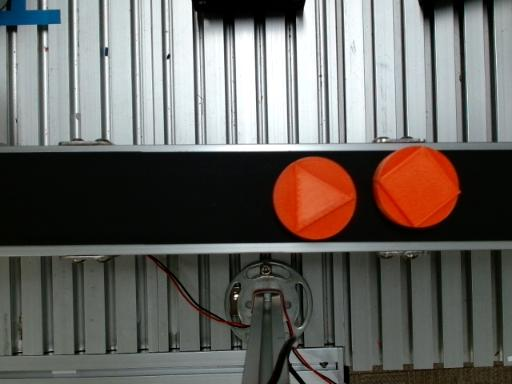Not_Square: (296, 162, 355, 234)
Orange_Waper: (374, 146, 460, 227), (274, 157, 355, 239)
Square: (379, 144, 460, 228)
